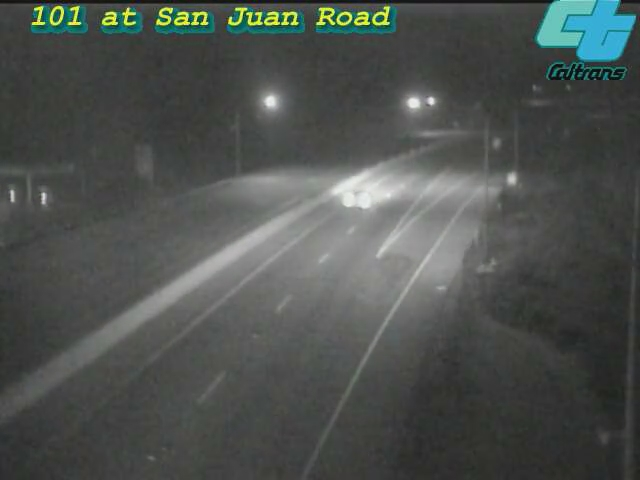vehicle: (325, 156, 405, 236)
